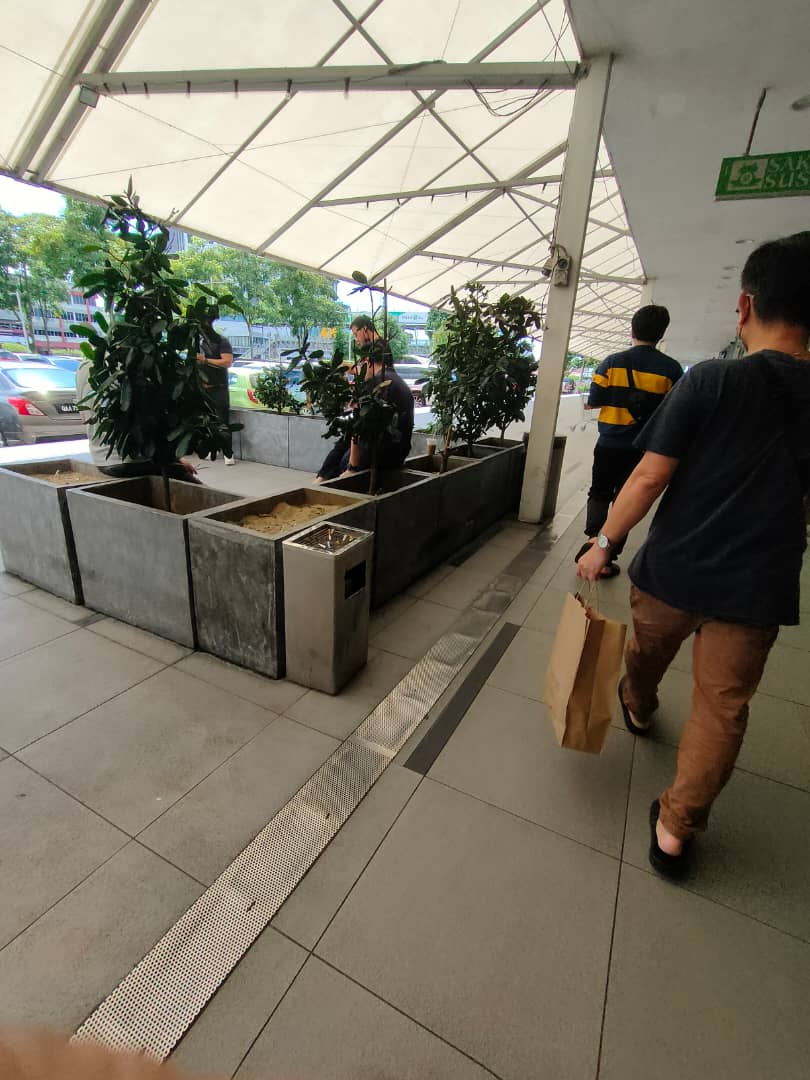sit: (333, 343, 422, 504)
stand: (666, 200, 810, 885)
